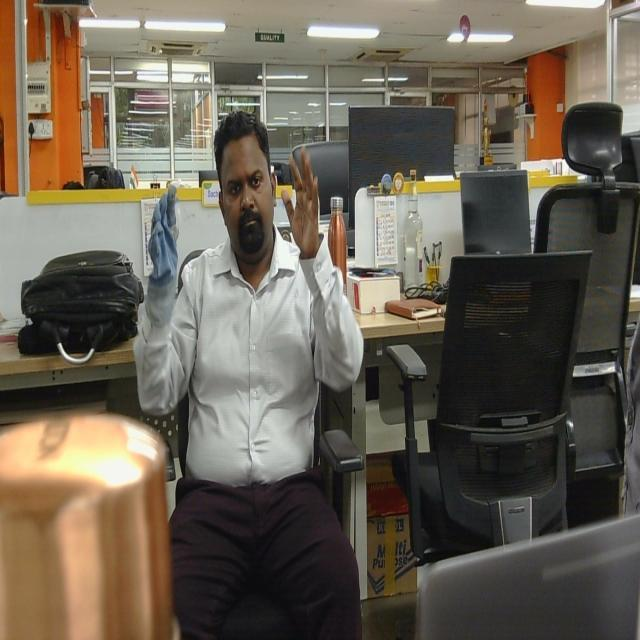Gloves-Detection: (142, 180, 184, 328)
